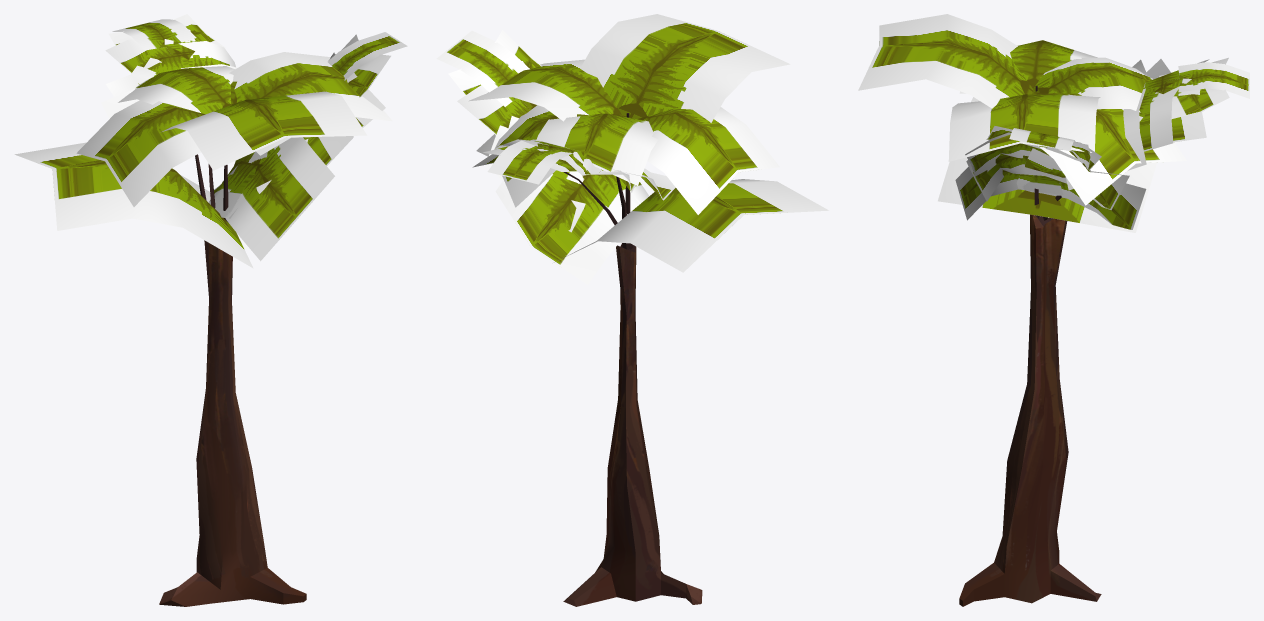
Rendered from Fern_Tree_Tall_L.fbx.
The picture shows the model from 3 angles, left to right: view 1: azimuth 30°, elevation 25°; view 2: azimuth 150°, elevation 25°; view 3: azimuth 270°, elevation 25°; orthographic projection. The views are drawn at different scales.
Visible parts, largest first — view 1: Fern_Tree_Tall_L; view 2: Fern_Tree_Tall_L; view 3: Fern_Tree_Tall_L.
Part boxes in pixels (x1,y1,x2,y2): Fern_Tree_Tall_L: [14, 14, 407, 606]; Fern_Tree_Tall_L: [436, 14, 828, 606]; Fern_Tree_Tall_L: [858, 14, 1249, 606].
Size of the model in its own units: 7 by 9.52 by 6.3.
